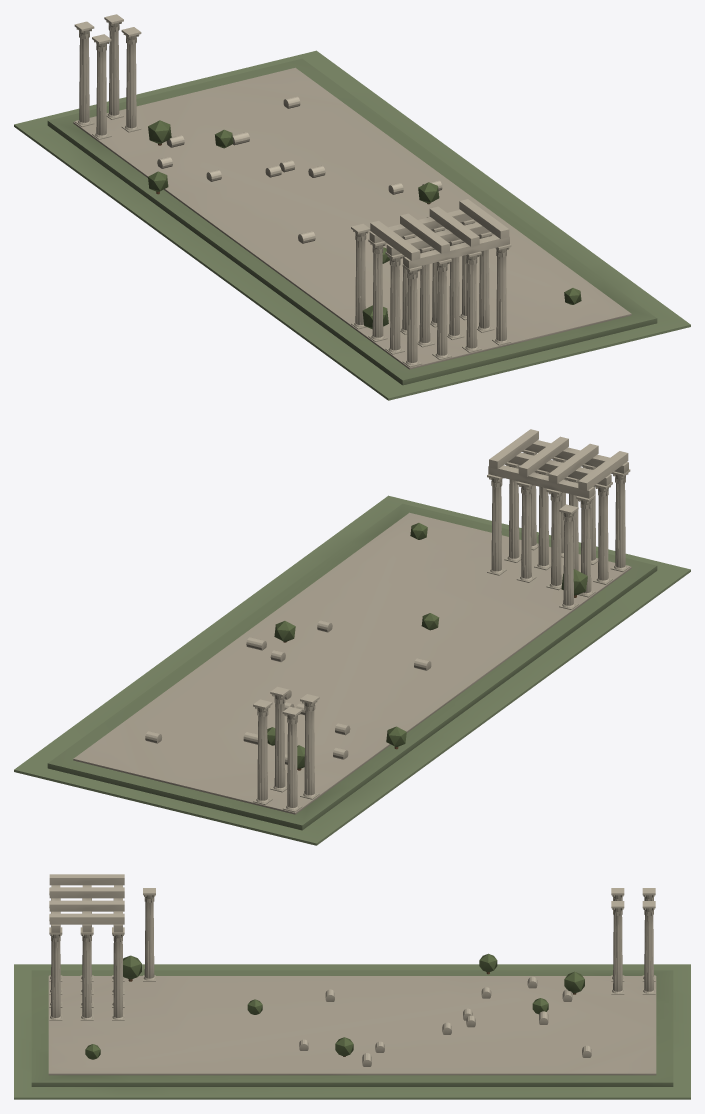
File: olympieion-ruin.glb
3 views of the same model, one above another, from view 1: azimuth 30°, elevation 25°; view 2: azimuth 150°, elevation 25°; view 3: azimuth 270°, elevation 25° (orthographic). The views are drawn at different scales.
Parts seen in each view (by area): view 1: p0_platform, p1_columns, p2_architraves; view 2: p0_platform, p1_columns, p2_architraves; view 3: p0_platform, p2_architraves, p1_columns.
Boxes of the visible parts, left/top/right/bottom form: p0_platform: left=14, top=50, right=690, bottom=400; p1_columns: left=74, top=14, right=511, bottom=367; p2_architraves: left=148, top=96, right=581, bottom=329; p0_platform: left=14, top=495, right=690, bottom=845; p1_columns: left=253, top=450, right=630, bottom=812; p2_architraves: left=145, top=429, right=628, bottom=770; p0_platform: left=14, top=964, right=690, bottom=1099; p2_architraves: left=49, top=874, right=591, bottom=1066; p1_columns: left=49, top=888, right=655, bottom=1020.
Bounding box in the file's own units: 56 × 21.7 × 120.
